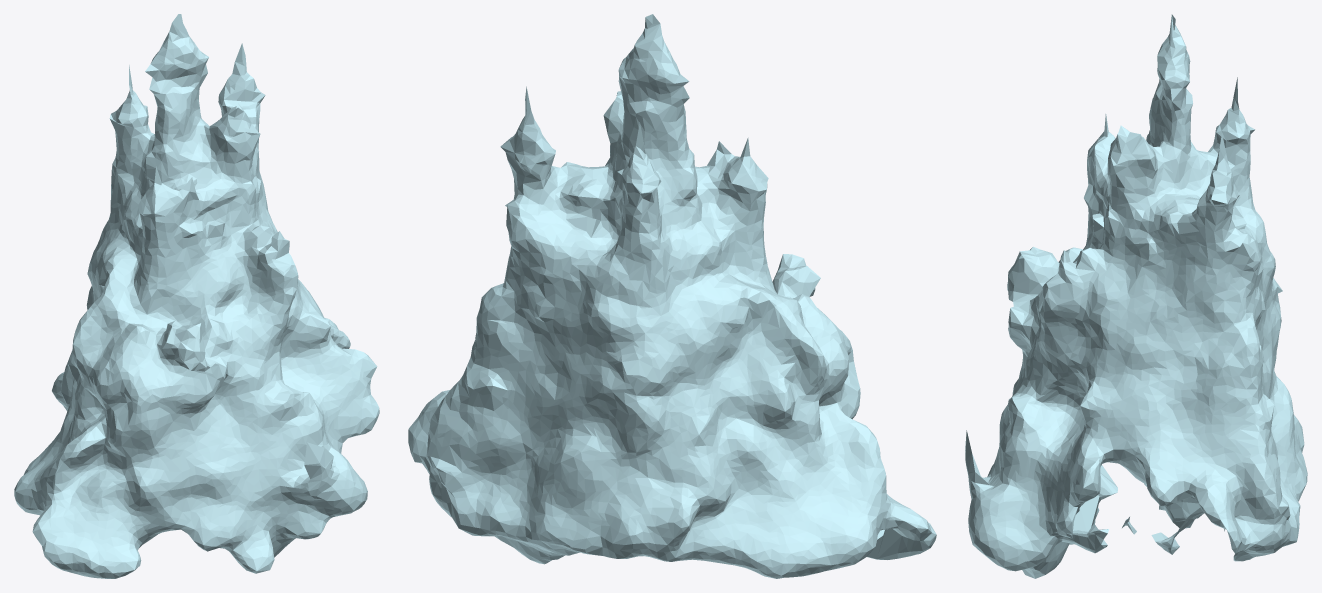
File: castle-scribble.glb
3 views of the same model, side by side, from view 1: azimuth 30°, elevation 25°; view 2: azimuth 150°, elevation 25°; view 3: azimuth 270°, elevation 25° (orthographic). The views are drawn at different scales.
Visible parts, largest first — view 1: extracted_mesh; view 2: extracted_mesh; view 3: extracted_mesh.
Boxes of the visible parts, <box> form: extracted_mesh: <box>14,14,379,578</box>; extracted_mesh: <box>408,14,936,578</box>; extracted_mesh: <box>965,14,1307,578</box>.
Bounding box in the file's own units: 1.01 × 1.3 × 0.7291.
Materials: 1 (1 with a texture image).
